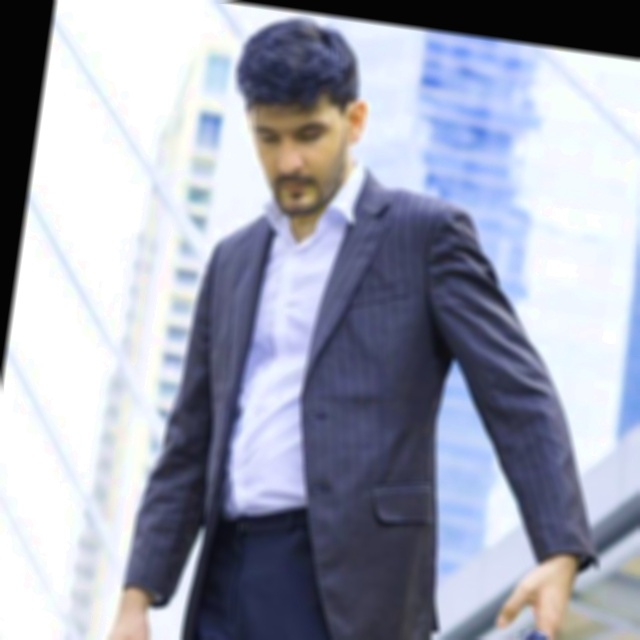Sin_Casco_Mascarrilla: (218, 10, 376, 224)
Sin_Chaleco: (163, 169, 469, 559)
